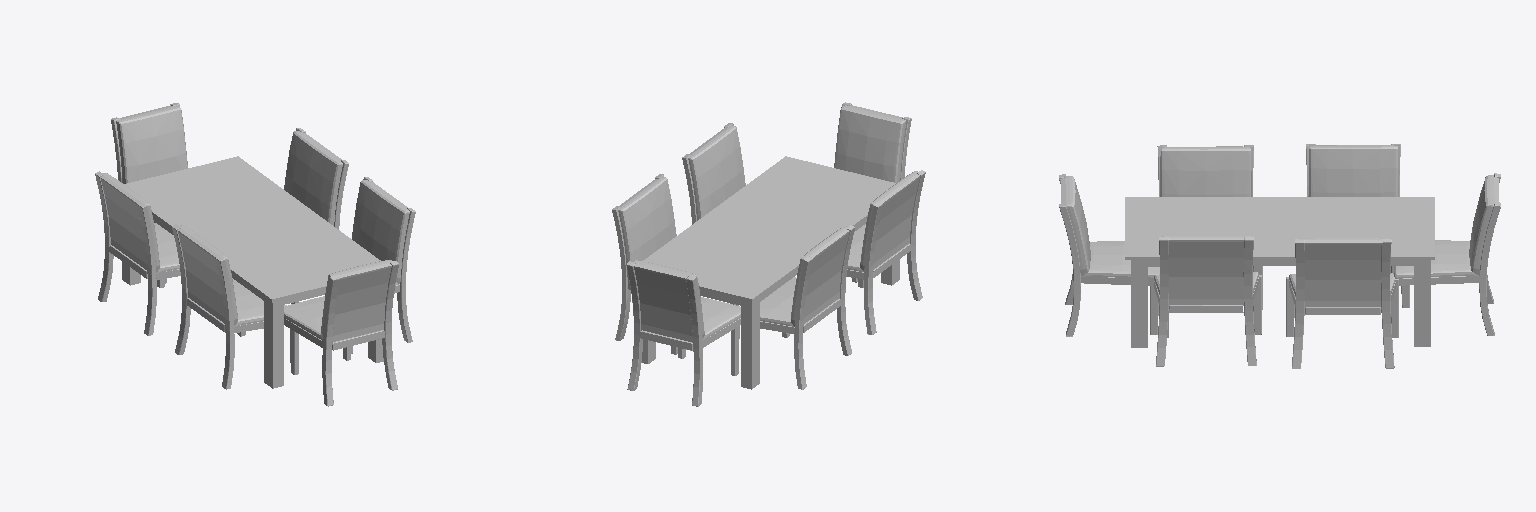
The model's file is mesa.obj.
3 views of the same model, side by side, from view 1: azimuth 30°, elevation 25°; view 2: azimuth 150°, elevation 25°; view 3: azimuth 270°, elevation 25° (orthographic).
Parts seen in each view (by area): view 1: Object_276, Object_284, Object_299, Object_294, Object_279, Object_289, Object_304, Object_286, Object_296, Object_274, Object_281, Object_306; view 2: Object_276, Object_299, Object_284, Object_279, Object_304, Object_289, Object_294, Object_301, Object_281, Object_274, Object_296, Object_291; view 3: Object_276, Object_289, Object_304, Object_279, Object_294, Object_306, Object_291, Object_274, Object_299, Object_284, Object_301, Object_286.
Boxes of the visible parts, box(x1,y1,x2,y2) form: Object_276: box(124, 156, 380, 302); Object_284: box(284, 260, 391, 341); Object_299: box(116, 105, 187, 222); Object_294: box(178, 225, 286, 327); Object_279: box(101, 173, 179, 273); Object_289: box(284, 131, 342, 225); Object_304: box(352, 180, 409, 285); Object_286: box(284, 261, 398, 406); Object_296: box(172, 224, 298, 389); Object_274: box(122, 217, 383, 388); Object_281: box(95, 171, 180, 335); Object_306: box(291, 177, 415, 360); Object_276: box(643, 156, 895, 302); Object_299: box(633, 260, 740, 342); Object_284: box(834, 105, 905, 182); Object_279: box(760, 226, 849, 326); Object_304: box(688, 126, 745, 220); Object_289: box(618, 177, 676, 283); Object_294: box(847, 171, 919, 271); Object_301: box(626, 261, 740, 406); Object_281: box(731, 225, 854, 389); Object_274: box(642, 220, 899, 389); Object_296: box(846, 170, 925, 334); Object_291: box(612, 174, 738, 358); Object_276: box(1125, 197, 1434, 259); Object_289: box(1289, 237, 1394, 308); Object_304: box(1154, 235, 1258, 305); Object_279: box(1308, 145, 1397, 196); Object_294: box(1160, 146, 1251, 196); Object_306: box(1150, 237, 1261, 366); Object_291: box(1286, 239, 1395, 368); Object_274: box(1131, 260, 1430, 347); Object_299: box(1394, 175, 1499, 278); Object_284: box(1060, 176, 1159, 278); Object_301: box(1391, 173, 1500, 337); Object_286: box(1059, 174, 1168, 337).
Bounding box in the file's own units: 1.52 × 0.9465 × 2.88.